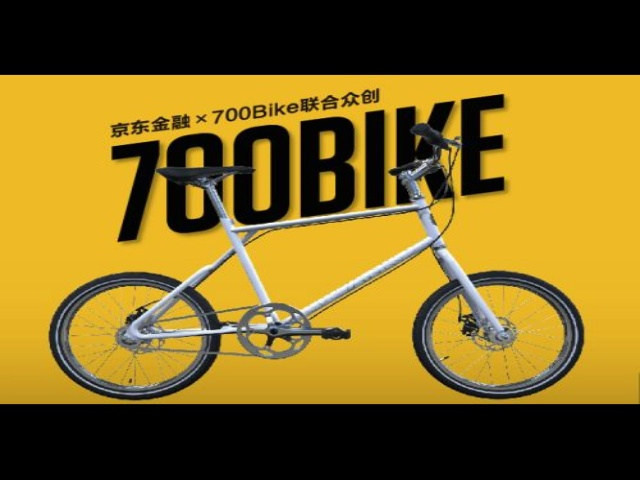bike: (58, 120, 590, 419)
